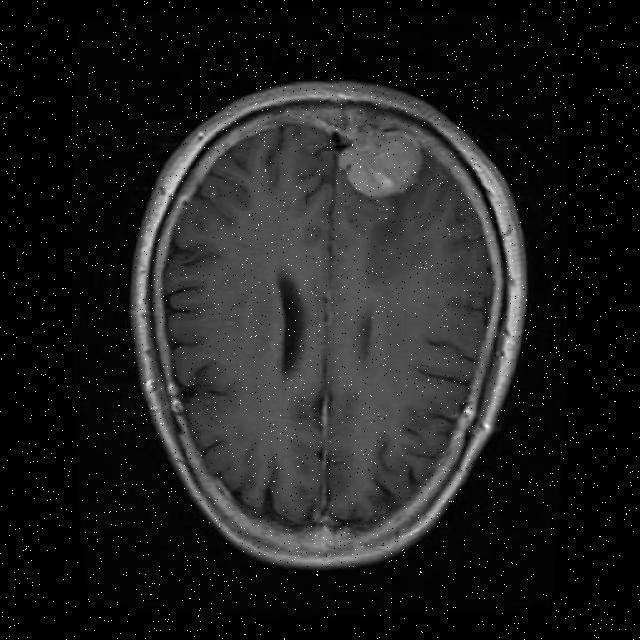Meningioma: (340, 125, 420, 197)
